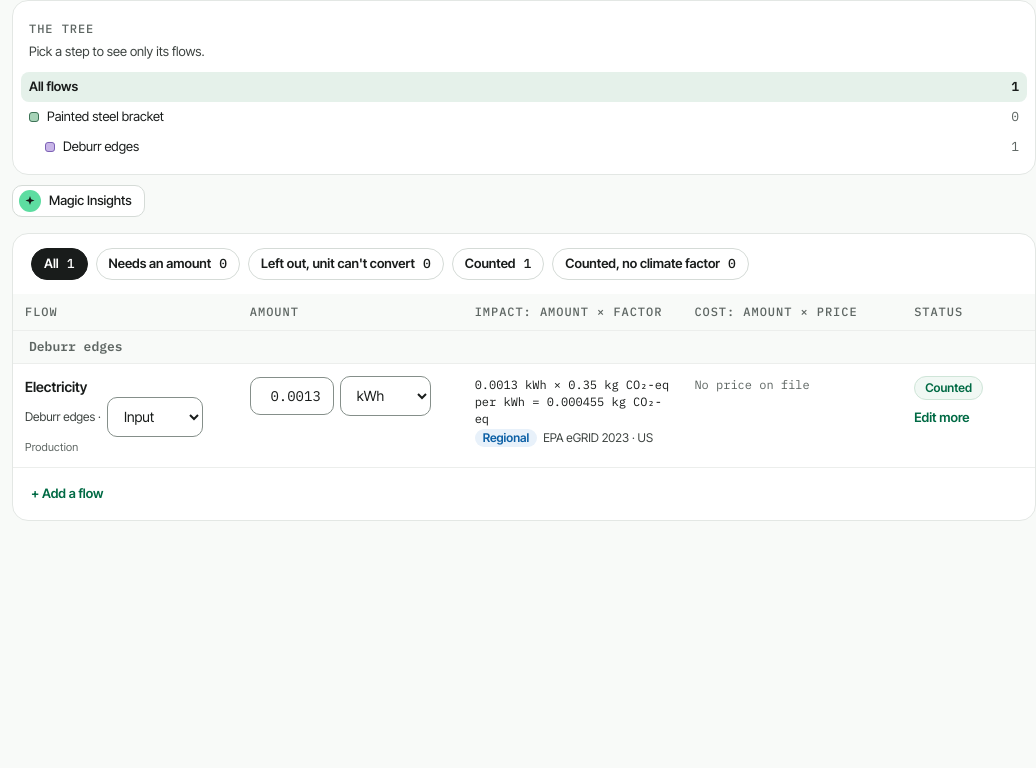
the amount box › Enter, Tab and leaving the box save nothing; Save stores the cleared box (no amount)
The image size is (1036, 768).
Clear the field named "Electricity, amount in kWh" at (292,396), box x1=250 y1=376 x2=334 y2=414
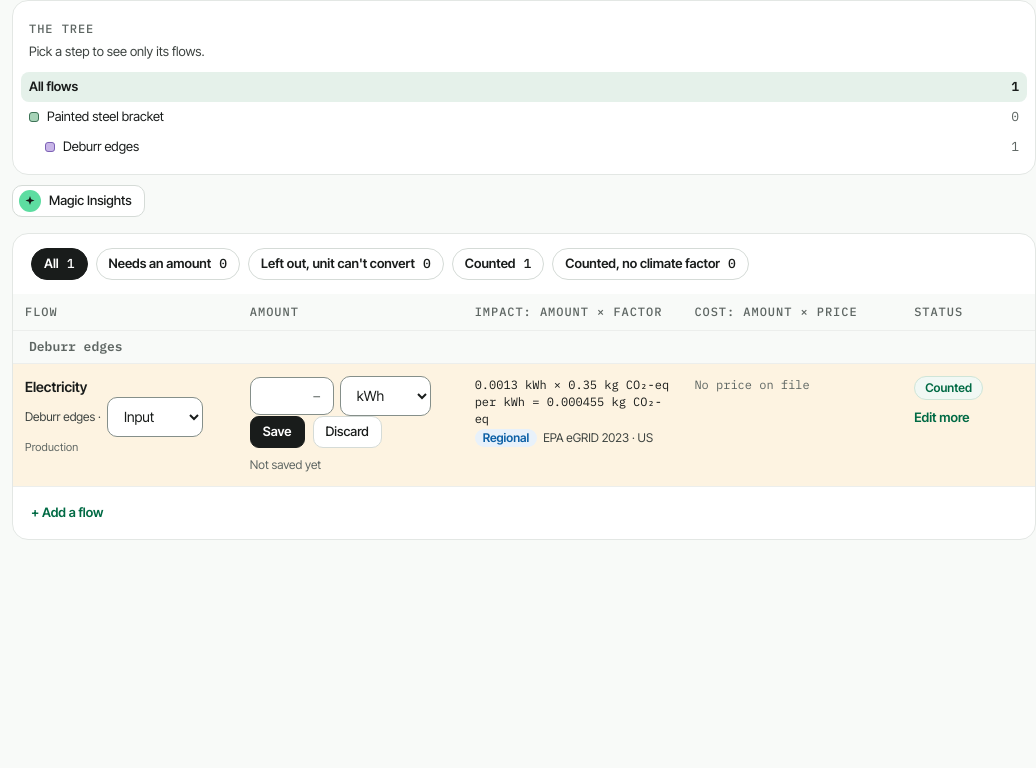
Press Enter in the field named "Electricity, amount in kWh", box x1=250 y1=376 x2=334 y2=414
Press Tab in the field named "Electricity, amount in kWh", box x1=250 y1=376 x2=334 y2=414
Click the button with aria-label "Save Electricity on Deburr edges".
click(277, 432)  # box x1=250 y1=416 x2=304 y2=448
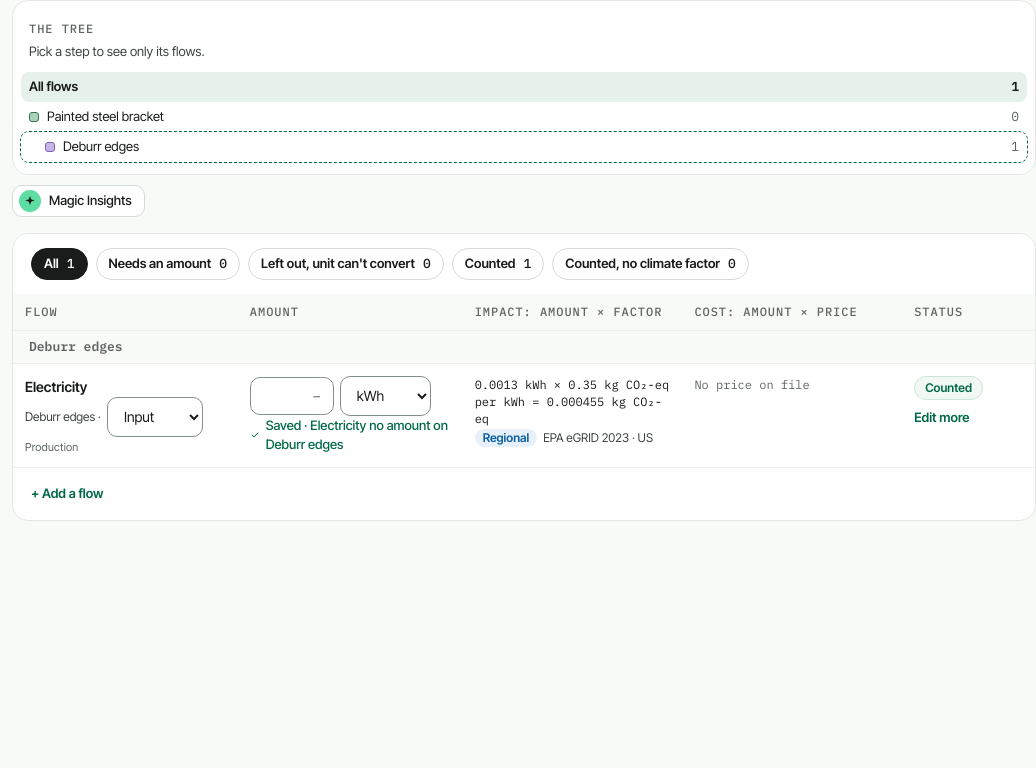
Result: the text "Saved · Electricity no amount on Deburr edges" is shown at x1=266 y1=416 x2=451 y2=454
